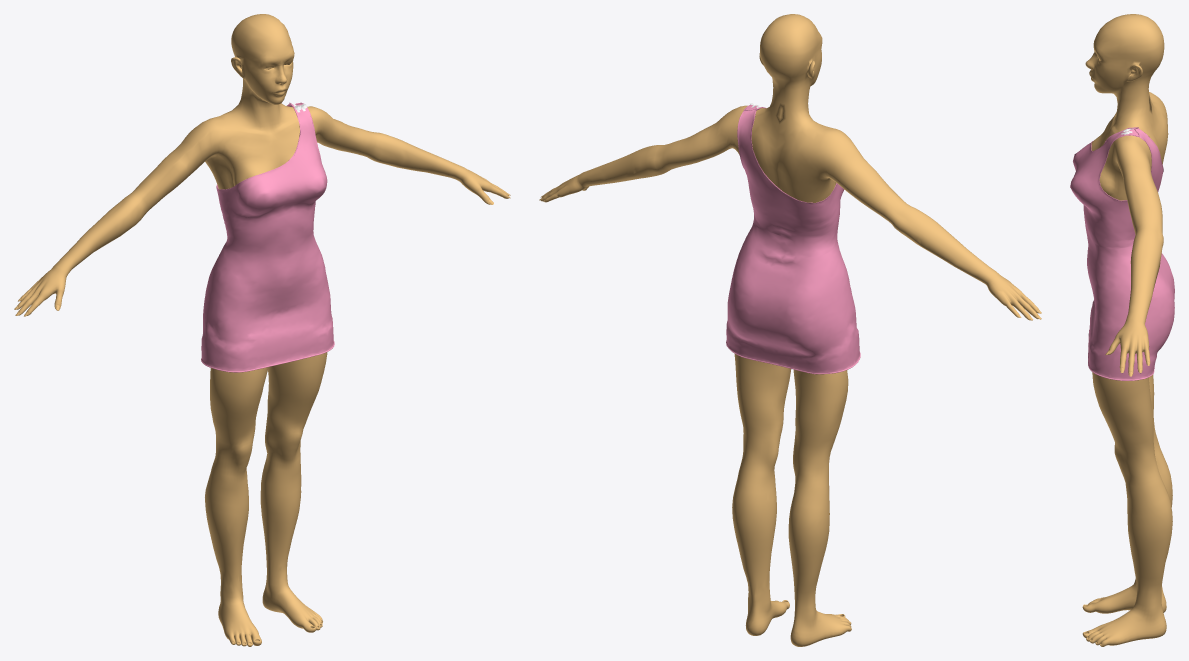
Rendered from dress1.glb.
3 views of the same model, side by side, from view 1: azimuth 30°, elevation 25°; view 2: azimuth 150°, elevation 25°; view 3: azimuth 270°, elevation 25° (orthographic).
Visible parts, largest first — view 1: Body, WhiteDress; view 2: Body, WhiteDress; view 3: Body, WhiteDress.
Boxes of the visible parts, bbox=[...] form: Body: bbox=[16, 14, 510, 646]; WhiteDress: bbox=[201, 102, 334, 372]; Body: bbox=[540, 14, 1038, 646]; WhiteDress: bbox=[726, 103, 860, 374]; Body: bbox=[1082, 14, 1172, 646]; WhiteDress: bbox=[1070, 127, 1174, 380].
Bounding box in the file's own units: 1.58 × 1.85 × 0.288.
